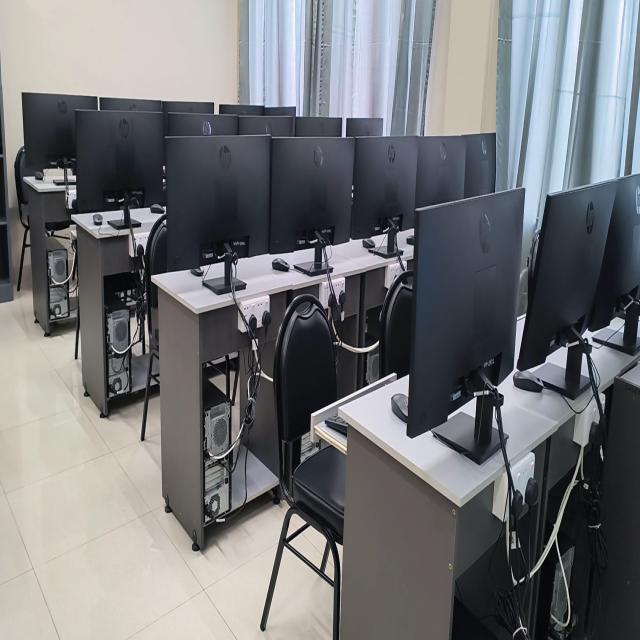Chair: (260, 294, 345, 639), (380, 270, 412, 378), (144, 214, 167, 357), (14, 146, 30, 290)
Cpu: (203, 403, 235, 525), (107, 309, 131, 395), (47, 248, 71, 321)
Monitor: (391, 190, 524, 437), (517, 181, 617, 369), (166, 136, 272, 271), (269, 137, 355, 253), (75, 110, 164, 213), (588, 174, 640, 330), (350, 137, 418, 239), (22, 93, 97, 171), (415, 137, 465, 207), (464, 133, 496, 196), (166, 113, 238, 136), (239, 116, 294, 136), (99, 97, 162, 111), (296, 117, 341, 136), (346, 118, 383, 136), (163, 101, 214, 114), (219, 104, 264, 115), (264, 106, 296, 118)
Mouse: (513, 370, 543, 392), (391, 393, 407, 423), (272, 258, 289, 271), (363, 239, 375, 251), (191, 267, 204, 277), (93, 215, 102, 225), (34, 171, 44, 180)
